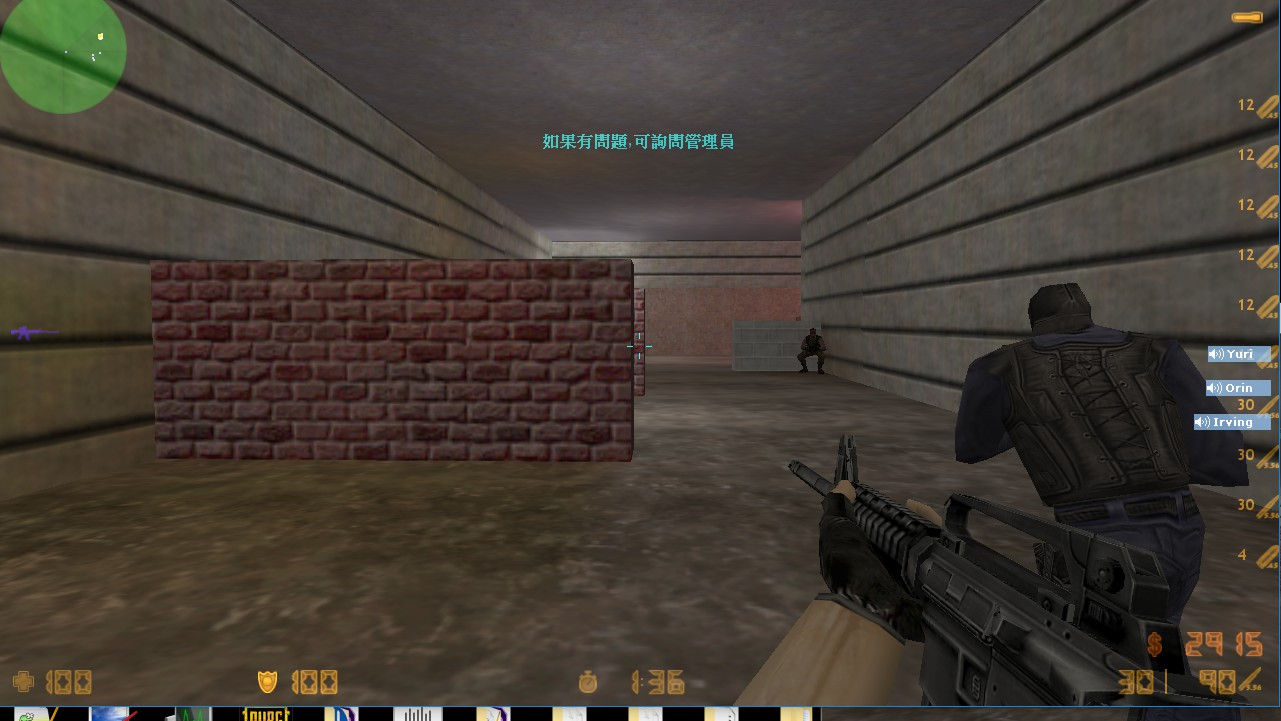person: (969, 271, 1220, 590), (791, 323, 831, 380)
